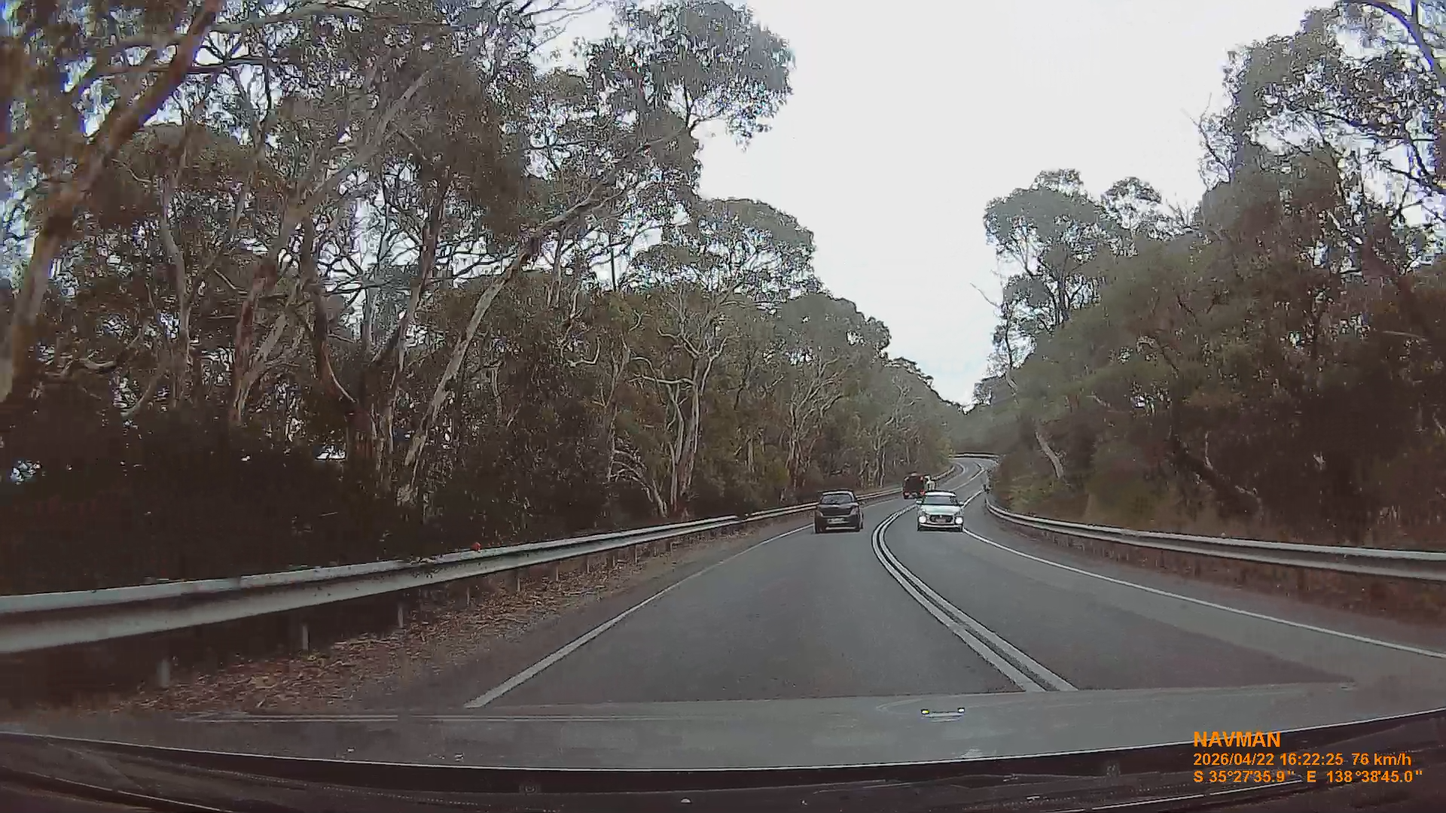road barriers: (7, 505, 795, 665), (999, 508, 1446, 583)
